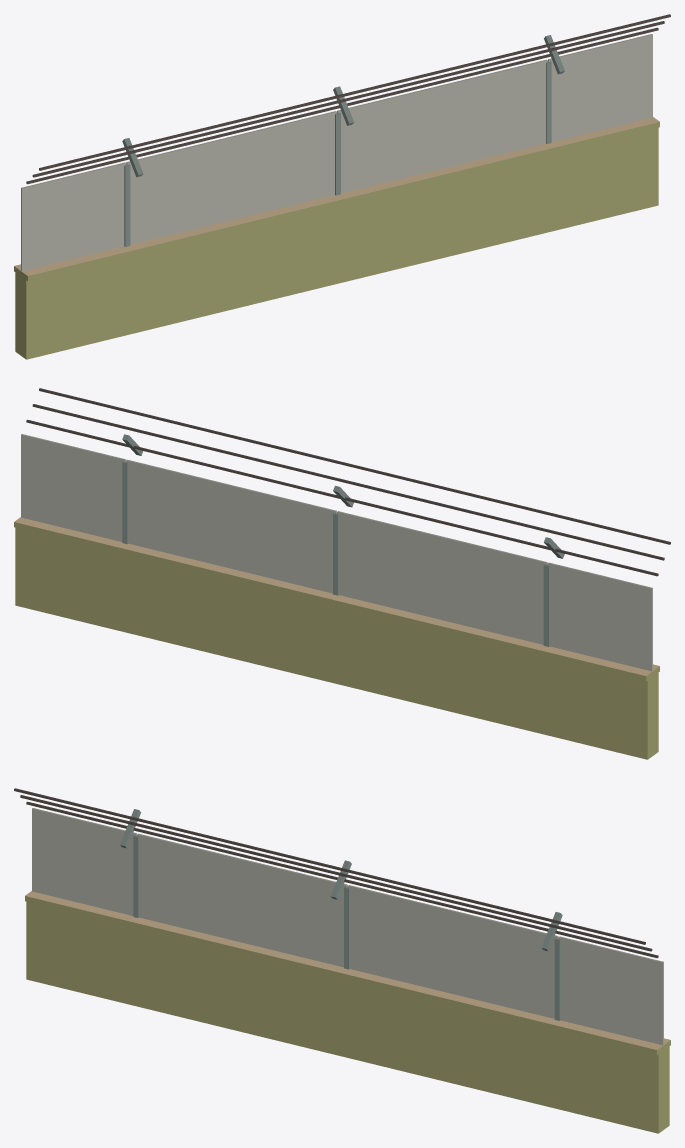
File: SM_VallaBetera_MuroBajo_e0_Sana_LOD0.fbx
The picture shows the model from 3 angles, top to bottom: view 1: azimuth 30°, elevation 25°; view 2: azimuth 150°, elevation 25°; view 3: azimuth 330°, elevation 25°; orthographic projection.
Visible parts, largest first — view 1: SM_valla_estados_v5_LOD0; view 2: SM_valla_estados_v5_LOD0; view 3: SM_valla_estados_v5_LOD0.
Boxes of the visible parts, bbox=[...] form: SM_valla_estados_v5_LOD0: bbox=[14, 14, 670, 359]; SM_valla_estados_v5_LOD0: bbox=[14, 388, 670, 759]; SM_valla_estados_v5_LOD0: bbox=[14, 788, 670, 1133].
Size of the model in its own units: 10 by 3.03 by 0.695.
